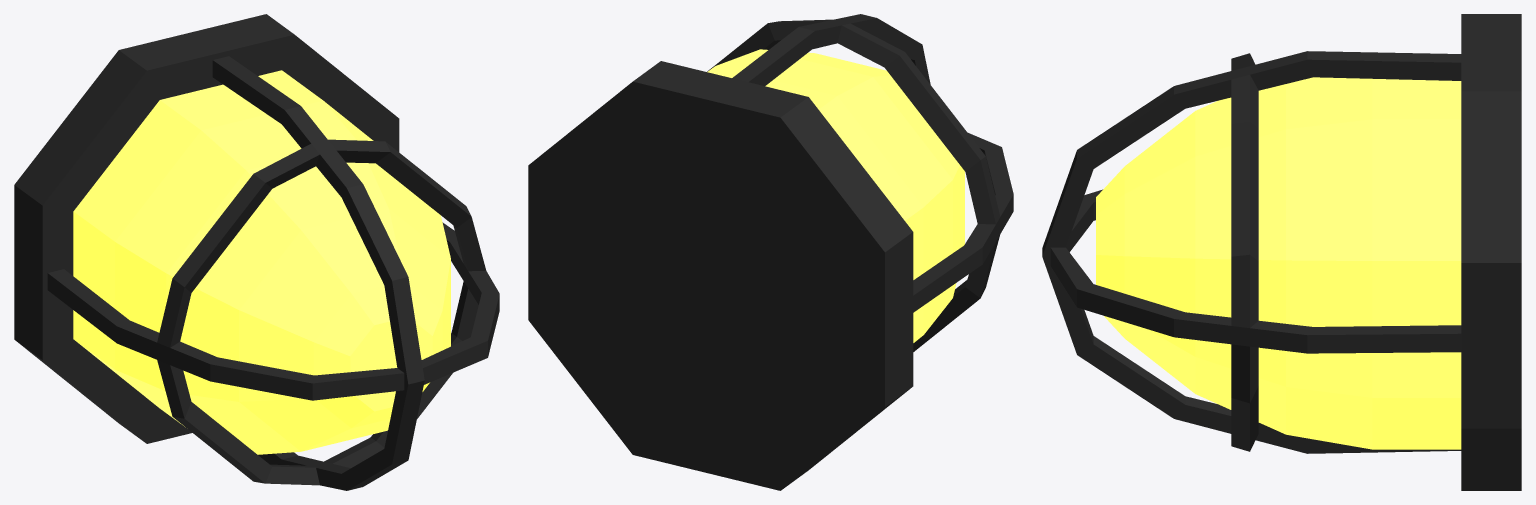
Rendered from SM_Props_Light_05.glb.
The picture shows the model from 3 angles, left to right: view 1: azimuth 30°, elevation 25°; view 2: azimuth 150°, elevation 25°; view 3: azimuth 270°, elevation 25°; orthographic projection. The views are drawn at different scales.
Visible parts, largest first — view 1: SM_Props_Light_05; view 2: SM_Props_Light_05; view 3: SM_Props_Light_05.
Boxes of the visible parts, left/top/right/bottom form: SM_Props_Light_05: left=14, top=14, right=499, bottom=490; SM_Props_Light_05: left=528, top=14, right=1013, bottom=490; SM_Props_Light_05: left=1042, top=14, right=1521, bottom=490.
Size of the model in its own units: 0.2214 by 0.2214 by 0.2407.
Materials: 2 (1 with a texture image).
